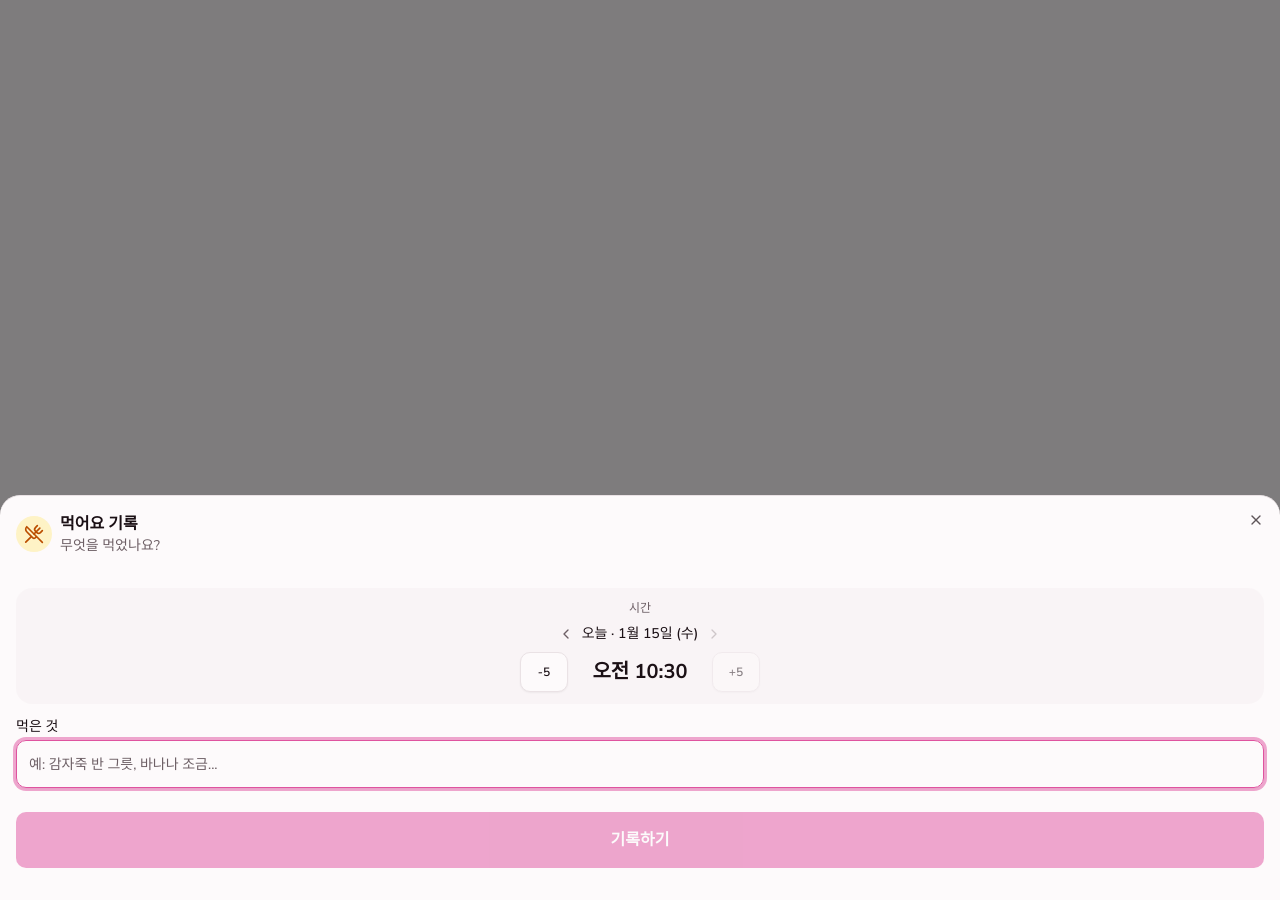
Test case: SolidFoodSheet › submit button is enabled when food name is provided
Type "바나나" into the field with placeholder "예: 감자죽 반 그릇, 바나나 조금...". click: (640, 764)
box: x1=16 y1=740 x2=1264 y2=788
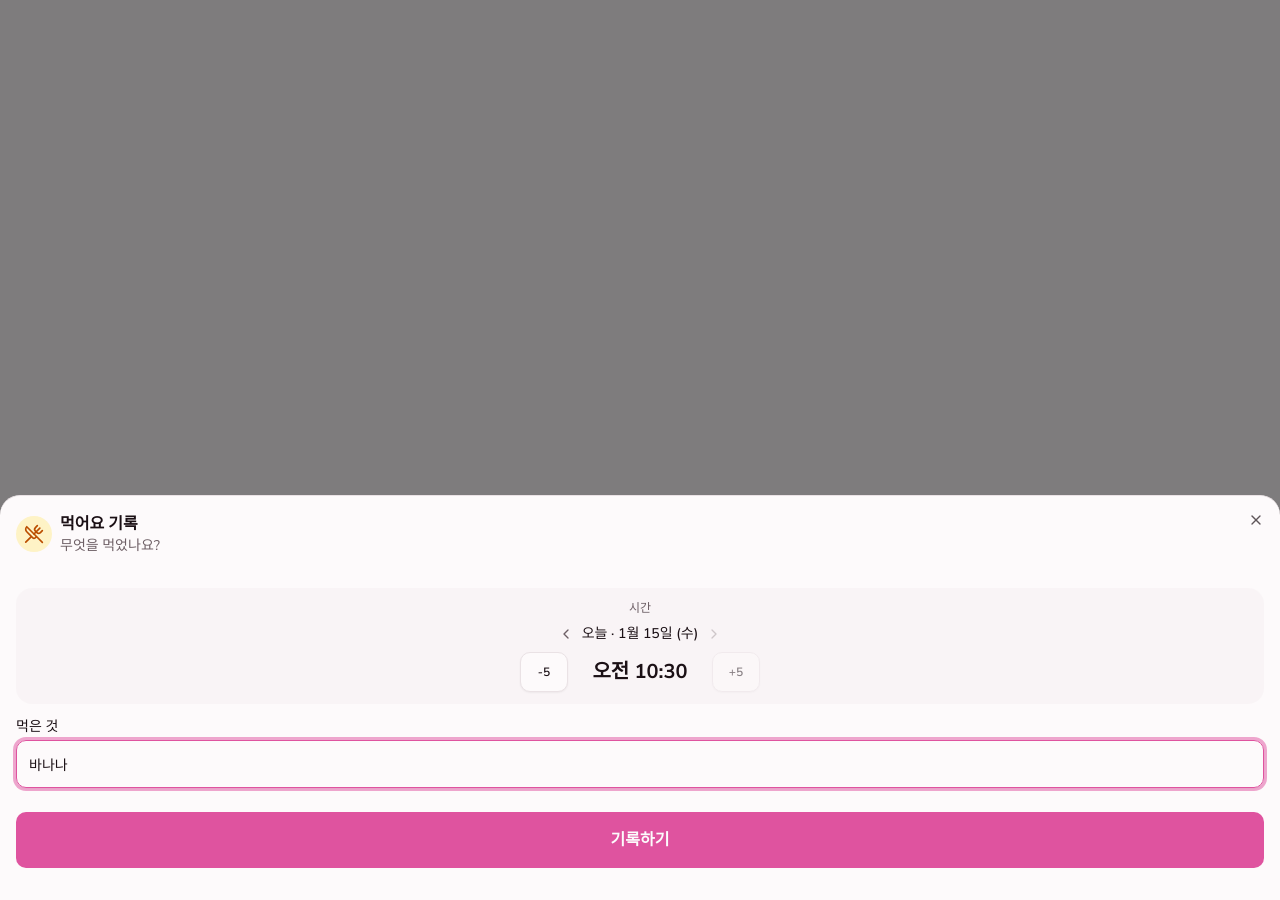
Now the button "기록하기" is enabled, box x1=16 y1=812 x2=1264 y2=868
